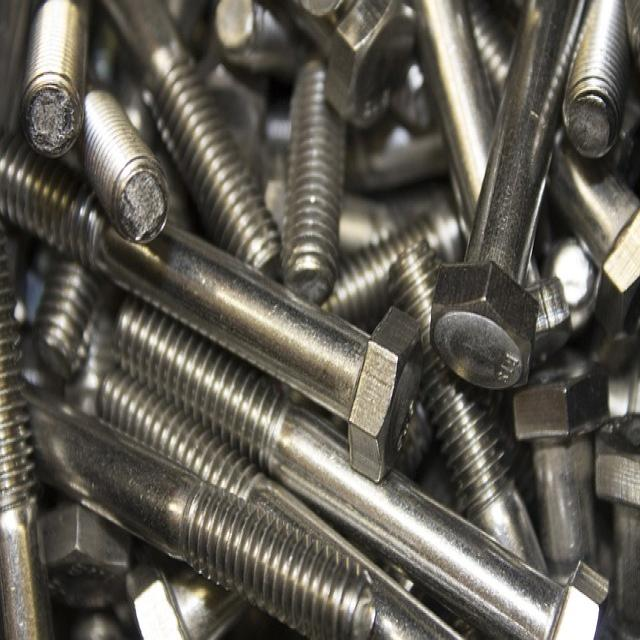Logam: (104, 322, 514, 628), (131, 193, 451, 480), (426, 1, 540, 399), (151, 19, 274, 283), (78, 77, 179, 246), (286, 49, 345, 304), (18, 3, 96, 165)
